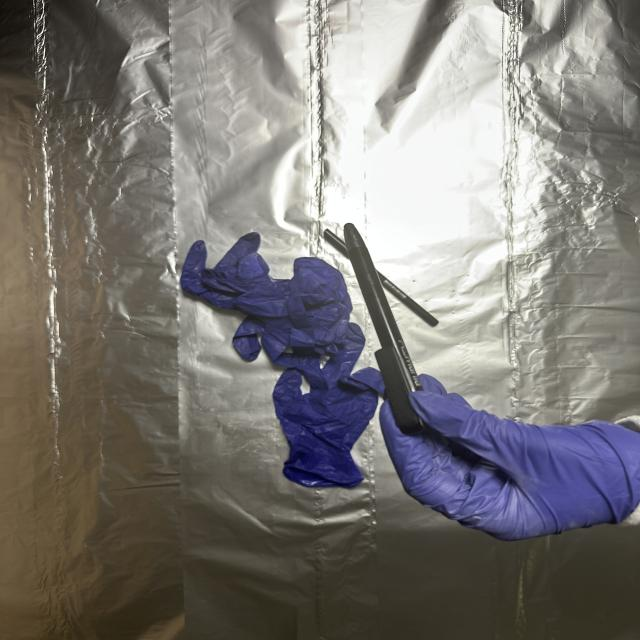gloves_contaminated: (380, 375, 640, 541)
